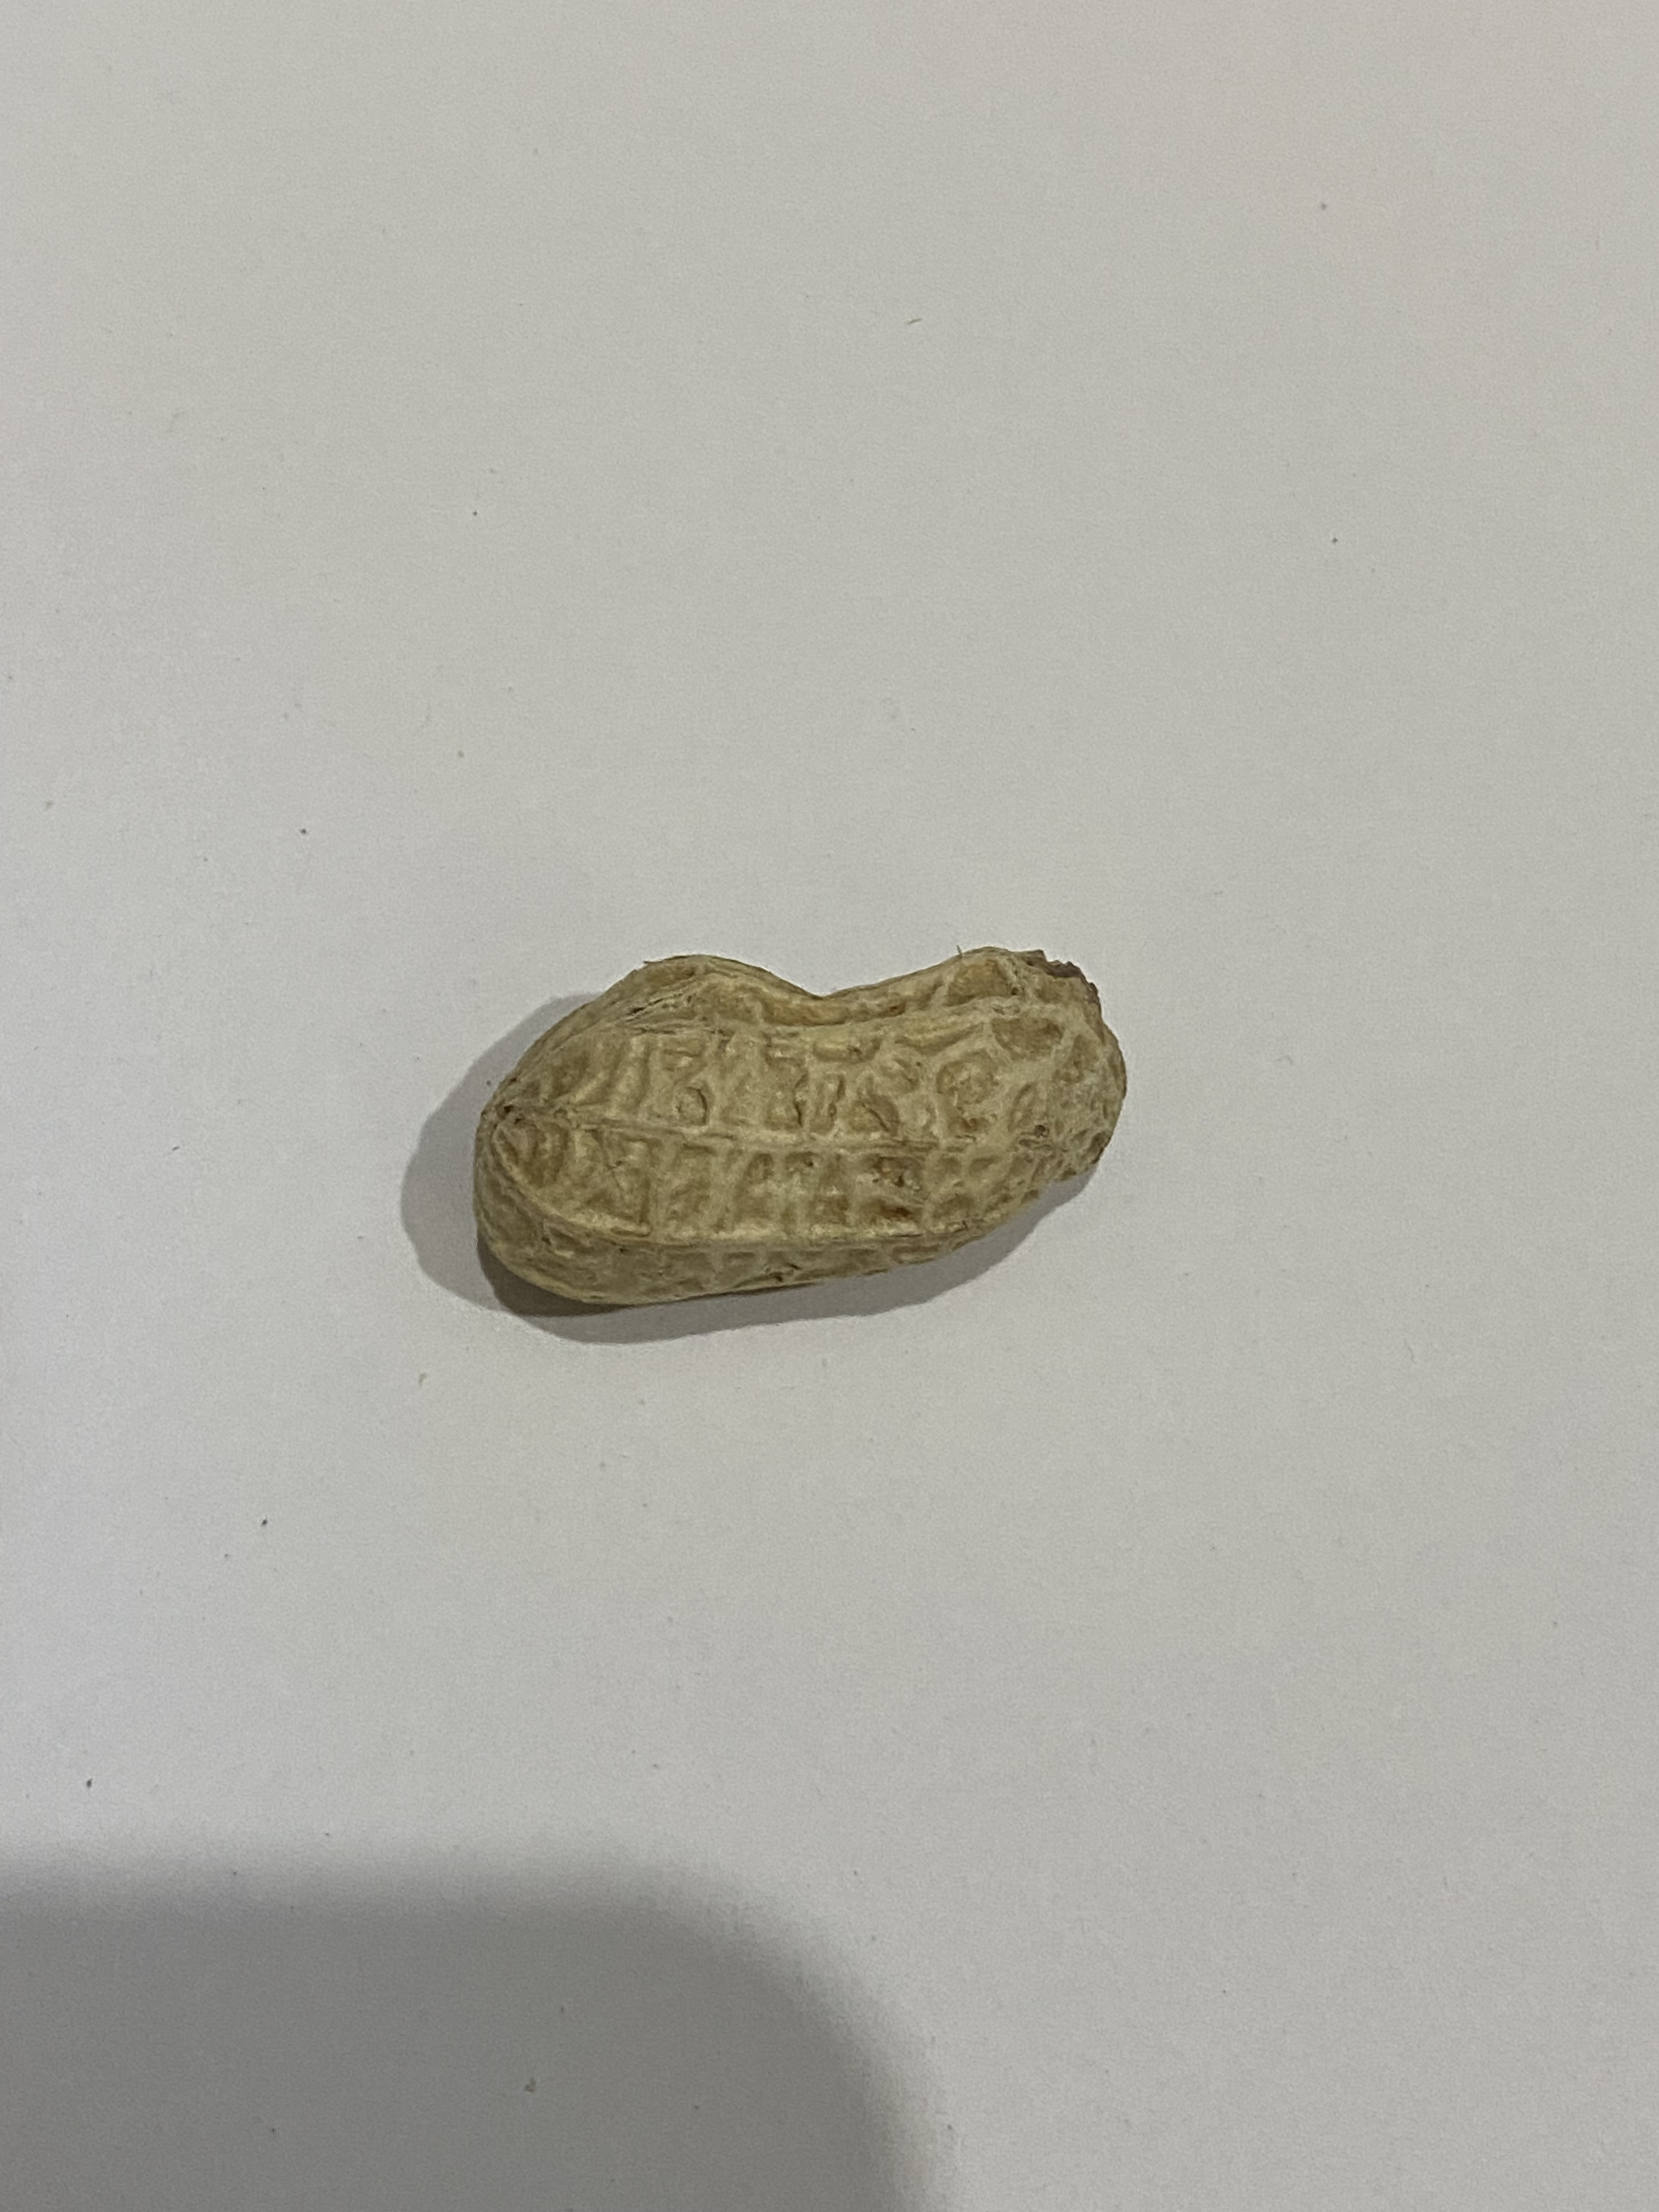kacang2: (450, 921, 1150, 1312)
